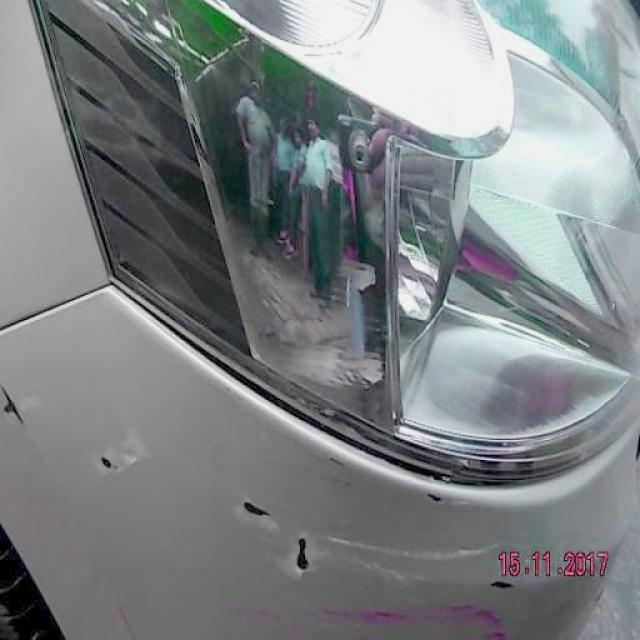car damage: (210, 604, 509, 635), (330, 538, 502, 586), (288, 525, 327, 587), (1, 384, 29, 435), (240, 493, 279, 529), (322, 450, 351, 472), (98, 448, 117, 479), (490, 578, 517, 598), (426, 488, 445, 512)
